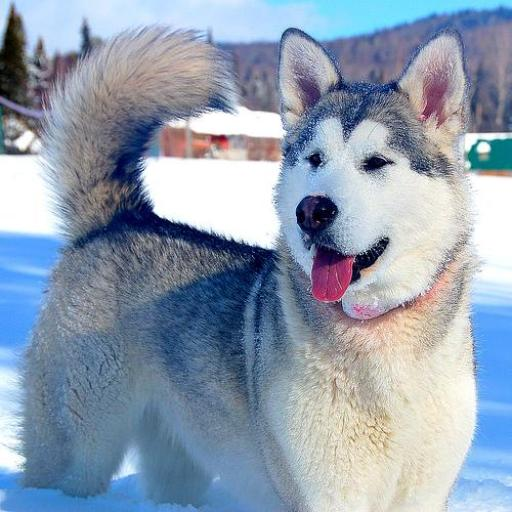dog_face: (274, 20, 478, 306)
